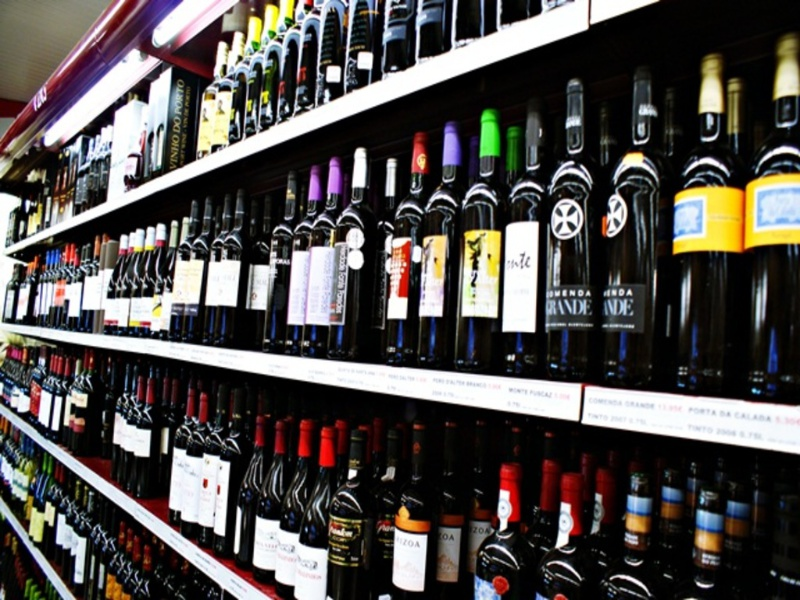wine: (14, 1, 798, 600)
